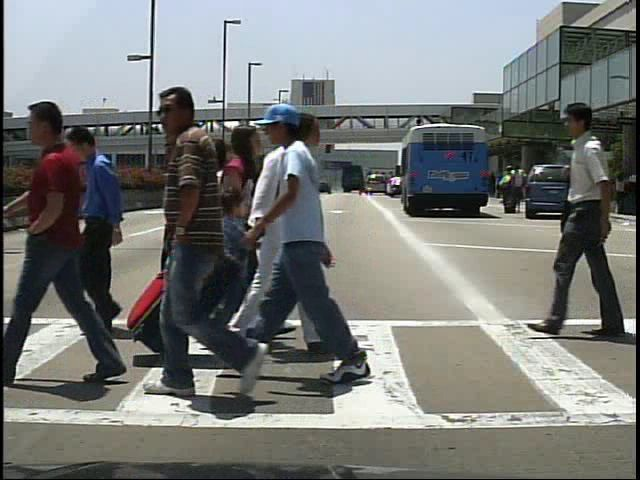person: (146, 84, 275, 421), (5, 91, 112, 390), (211, 112, 327, 363), (265, 105, 368, 386), (541, 99, 620, 341), (54, 122, 133, 341), (216, 122, 275, 361), (153, 129, 226, 322), (188, 134, 259, 329), (212, 184, 254, 328), (582, 165, 602, 218), (498, 166, 516, 219), (513, 165, 530, 215)
